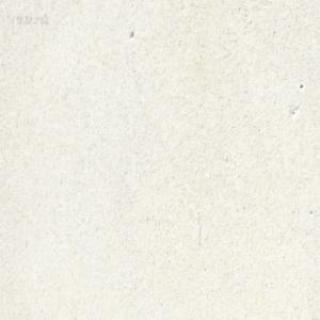Wrenchtrack_idkeyframe: (187, 0, 195, 4)
